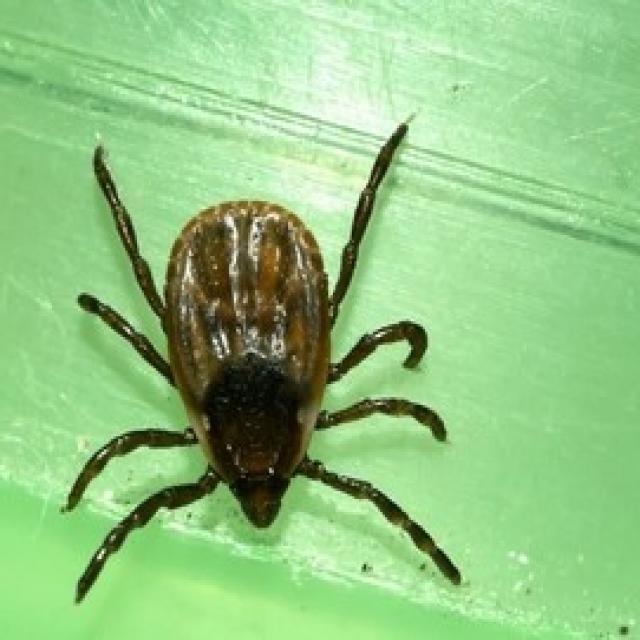Rhipicephalus Sanguineus-F: (64, 123, 463, 606)
